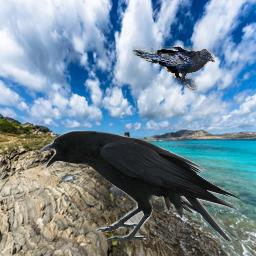Crow: (39, 130, 243, 243), (132, 46, 215, 90)
